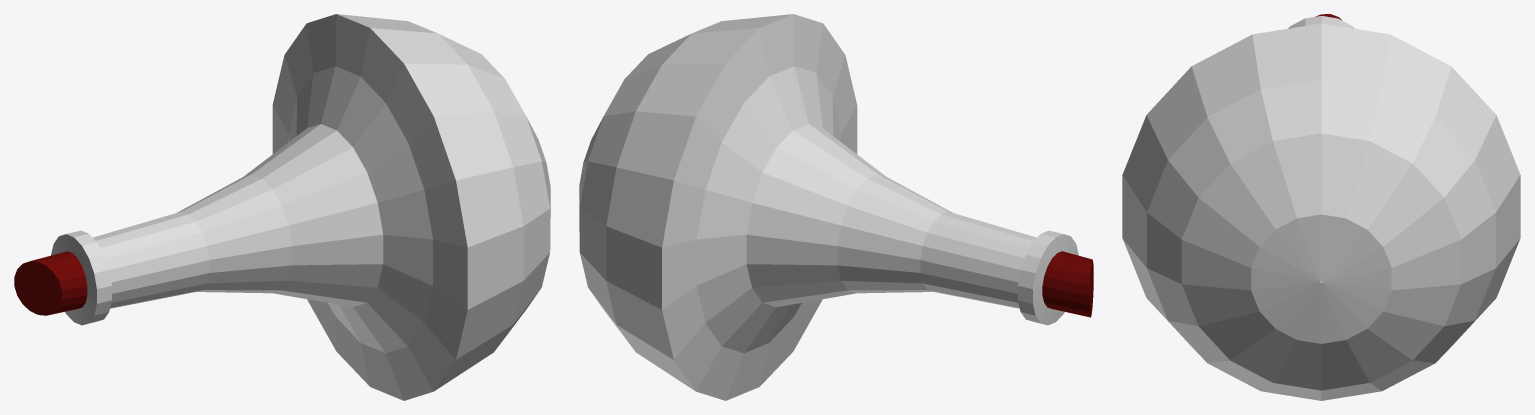
File: VengancePotion.fbx
The picture shows the model from 3 angles, left to right: view 1: azimuth 30°, elevation 25°; view 2: azimuth 150°, elevation 25°; view 3: azimuth 270°, elevation 25°; orthographic projection. The views are drawn at different scales.
Visible parts, largest first — view 1: vengance; view 2: vengance; view 3: vengance.
Part boxes in pixels (<box>): vengance: <box>14,14,550,400</box>; vengance: <box>579,14,1093,400</box>; vengance: <box>1122,14,1520,400</box>.
Size of the model in its own units: 331 by 229 by 226.
